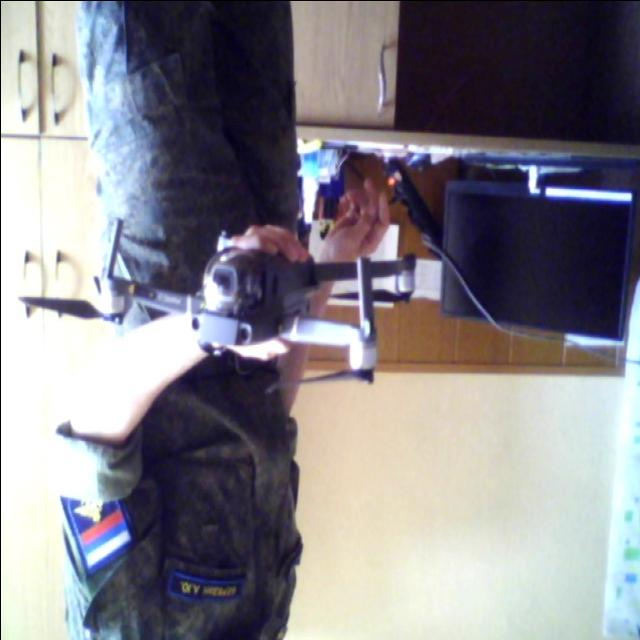drone: (59, 205, 431, 393)
